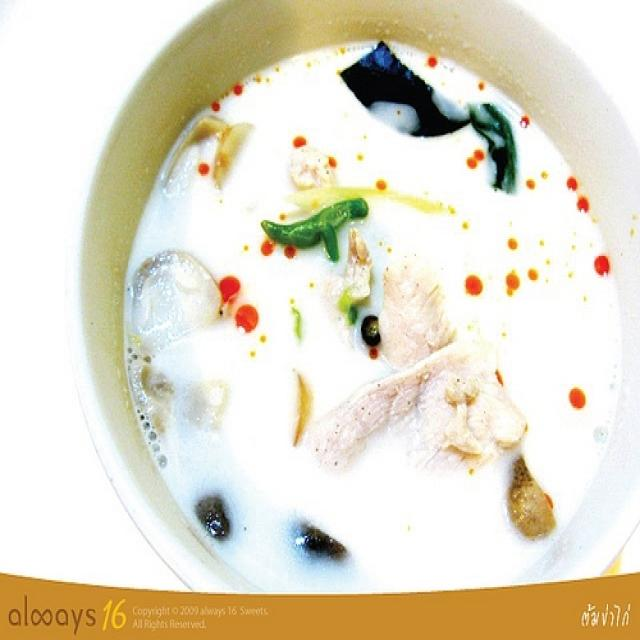汤锅炖物: (64, 10, 630, 565)
